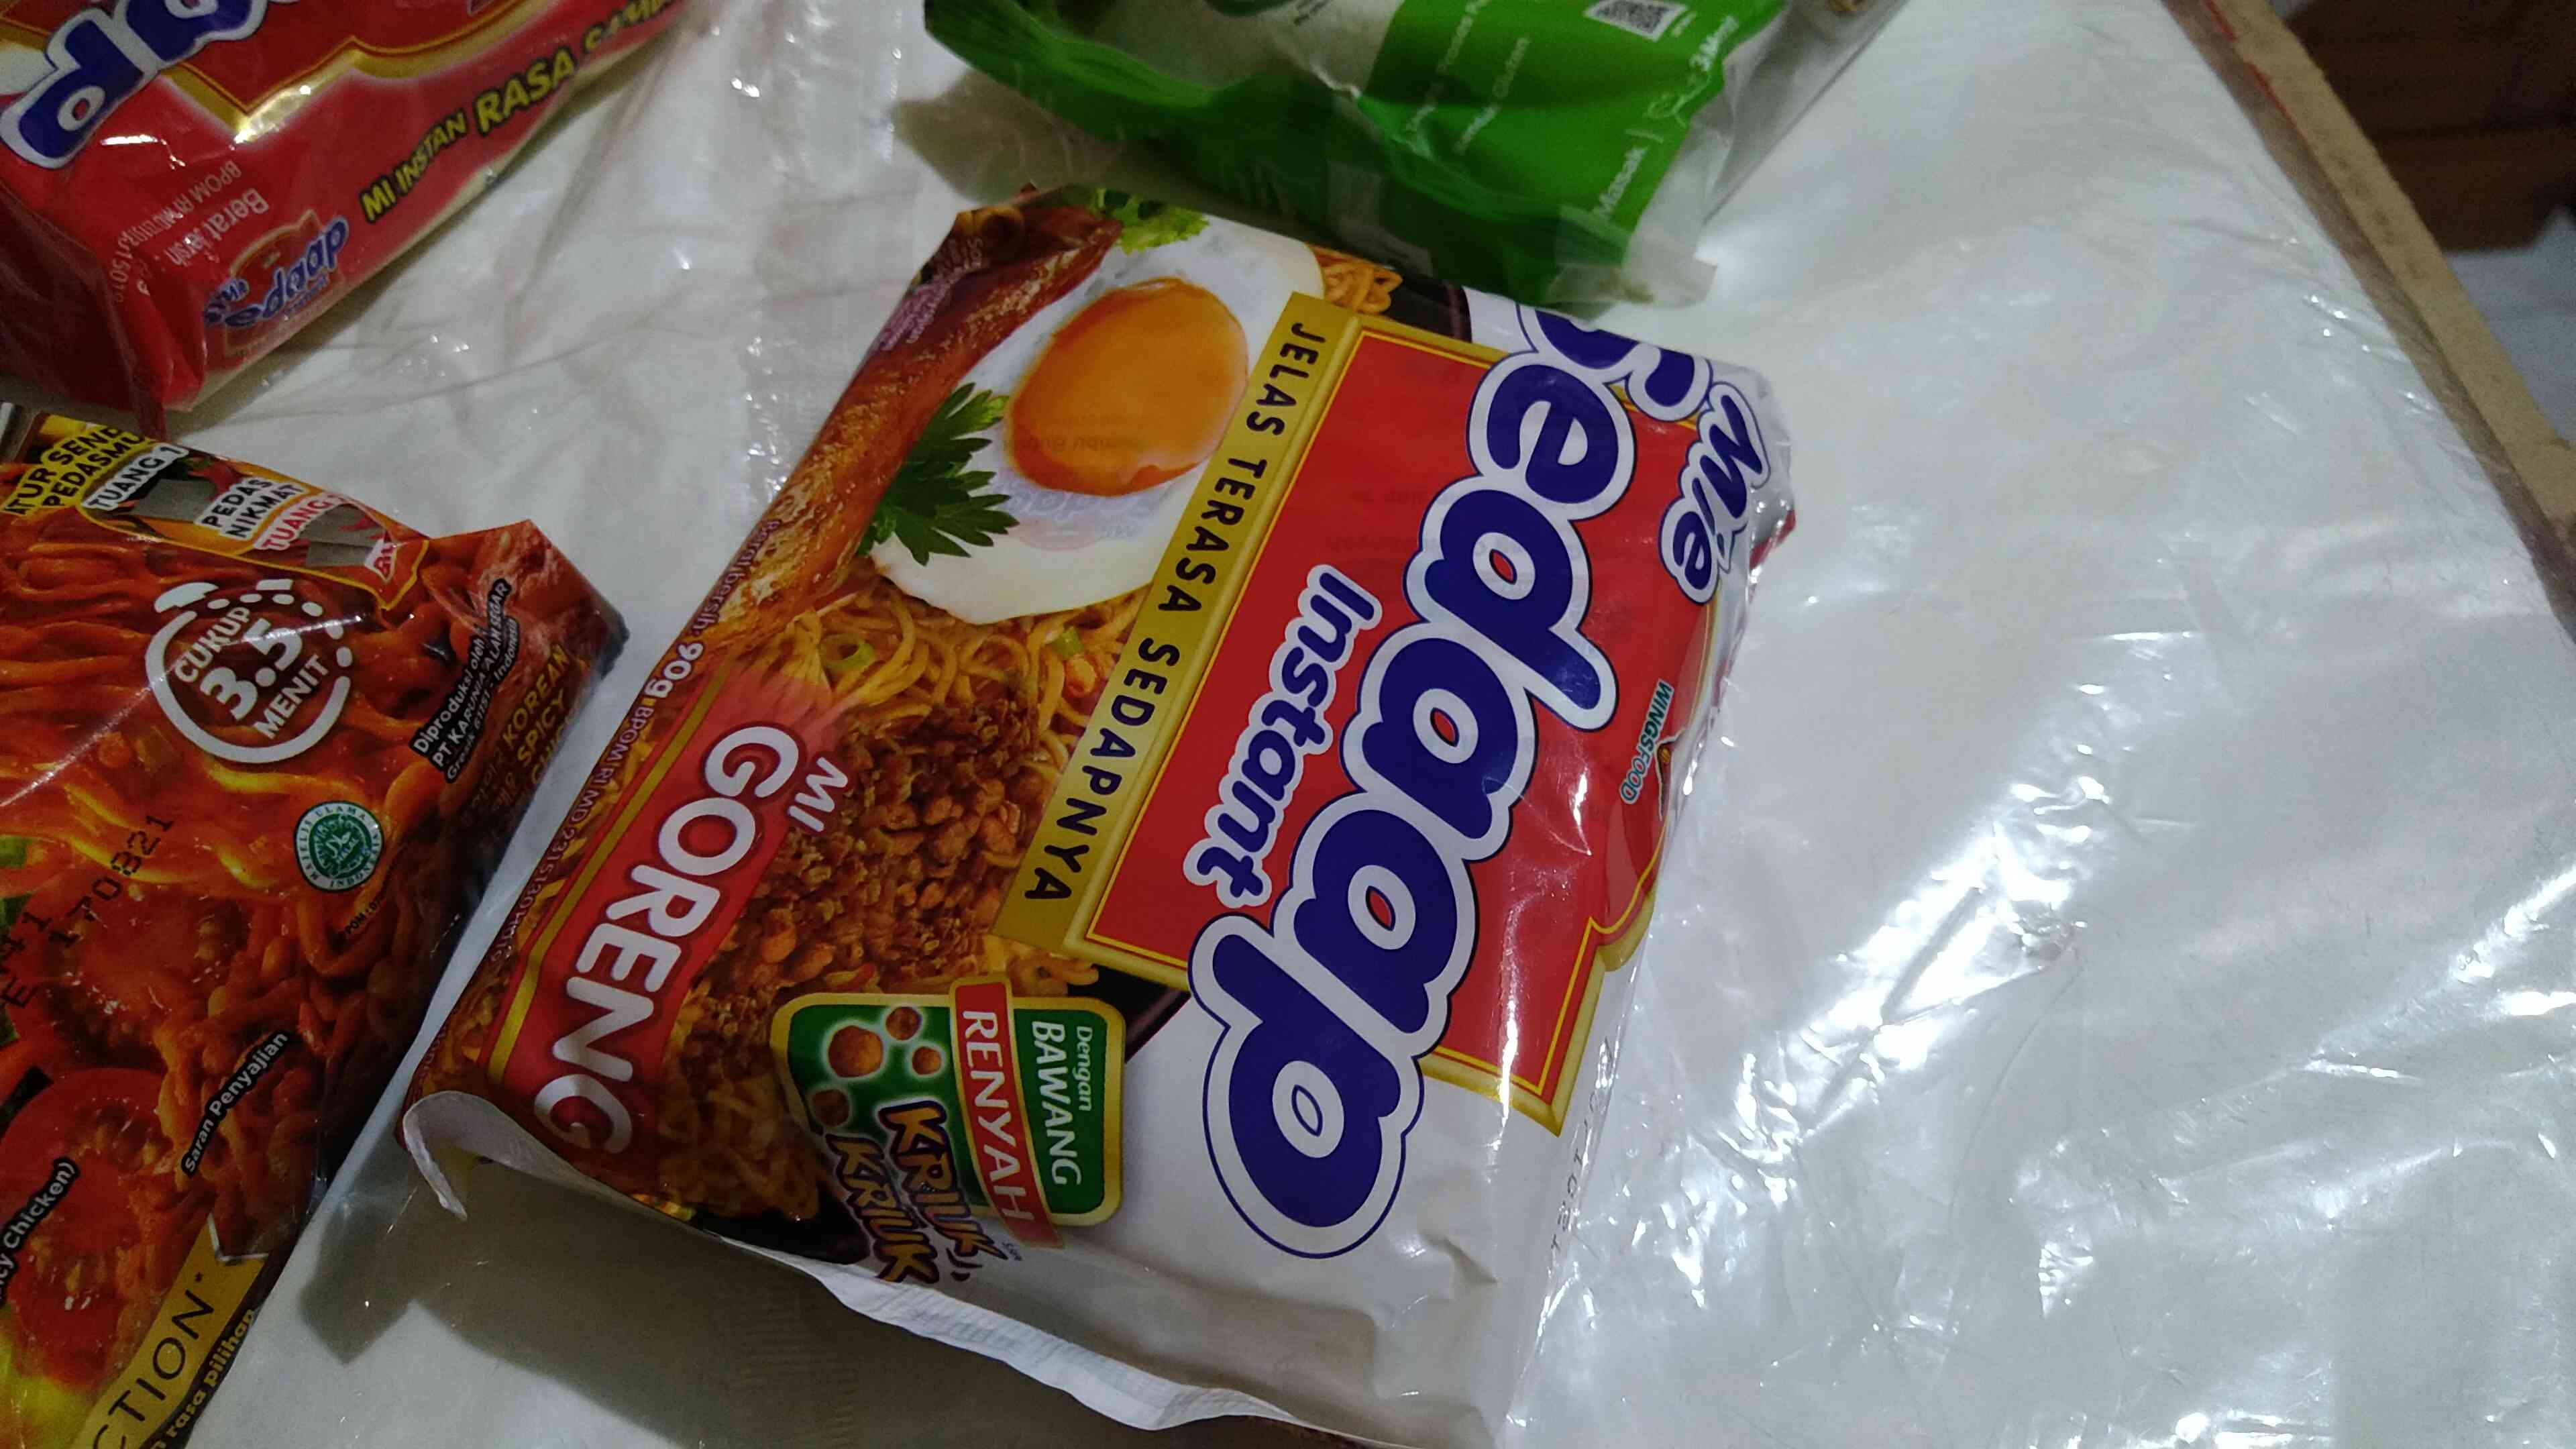sedaap goreng: (479, 193, 1760, 1437)
